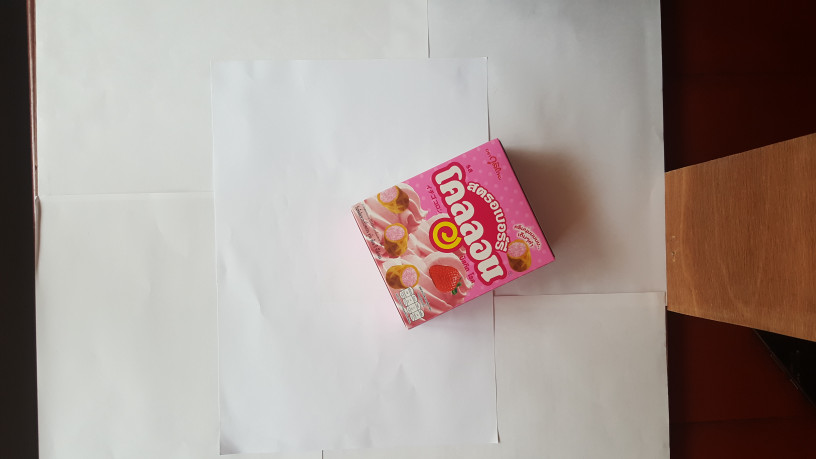collon-strawberry: (349, 138, 558, 333)
